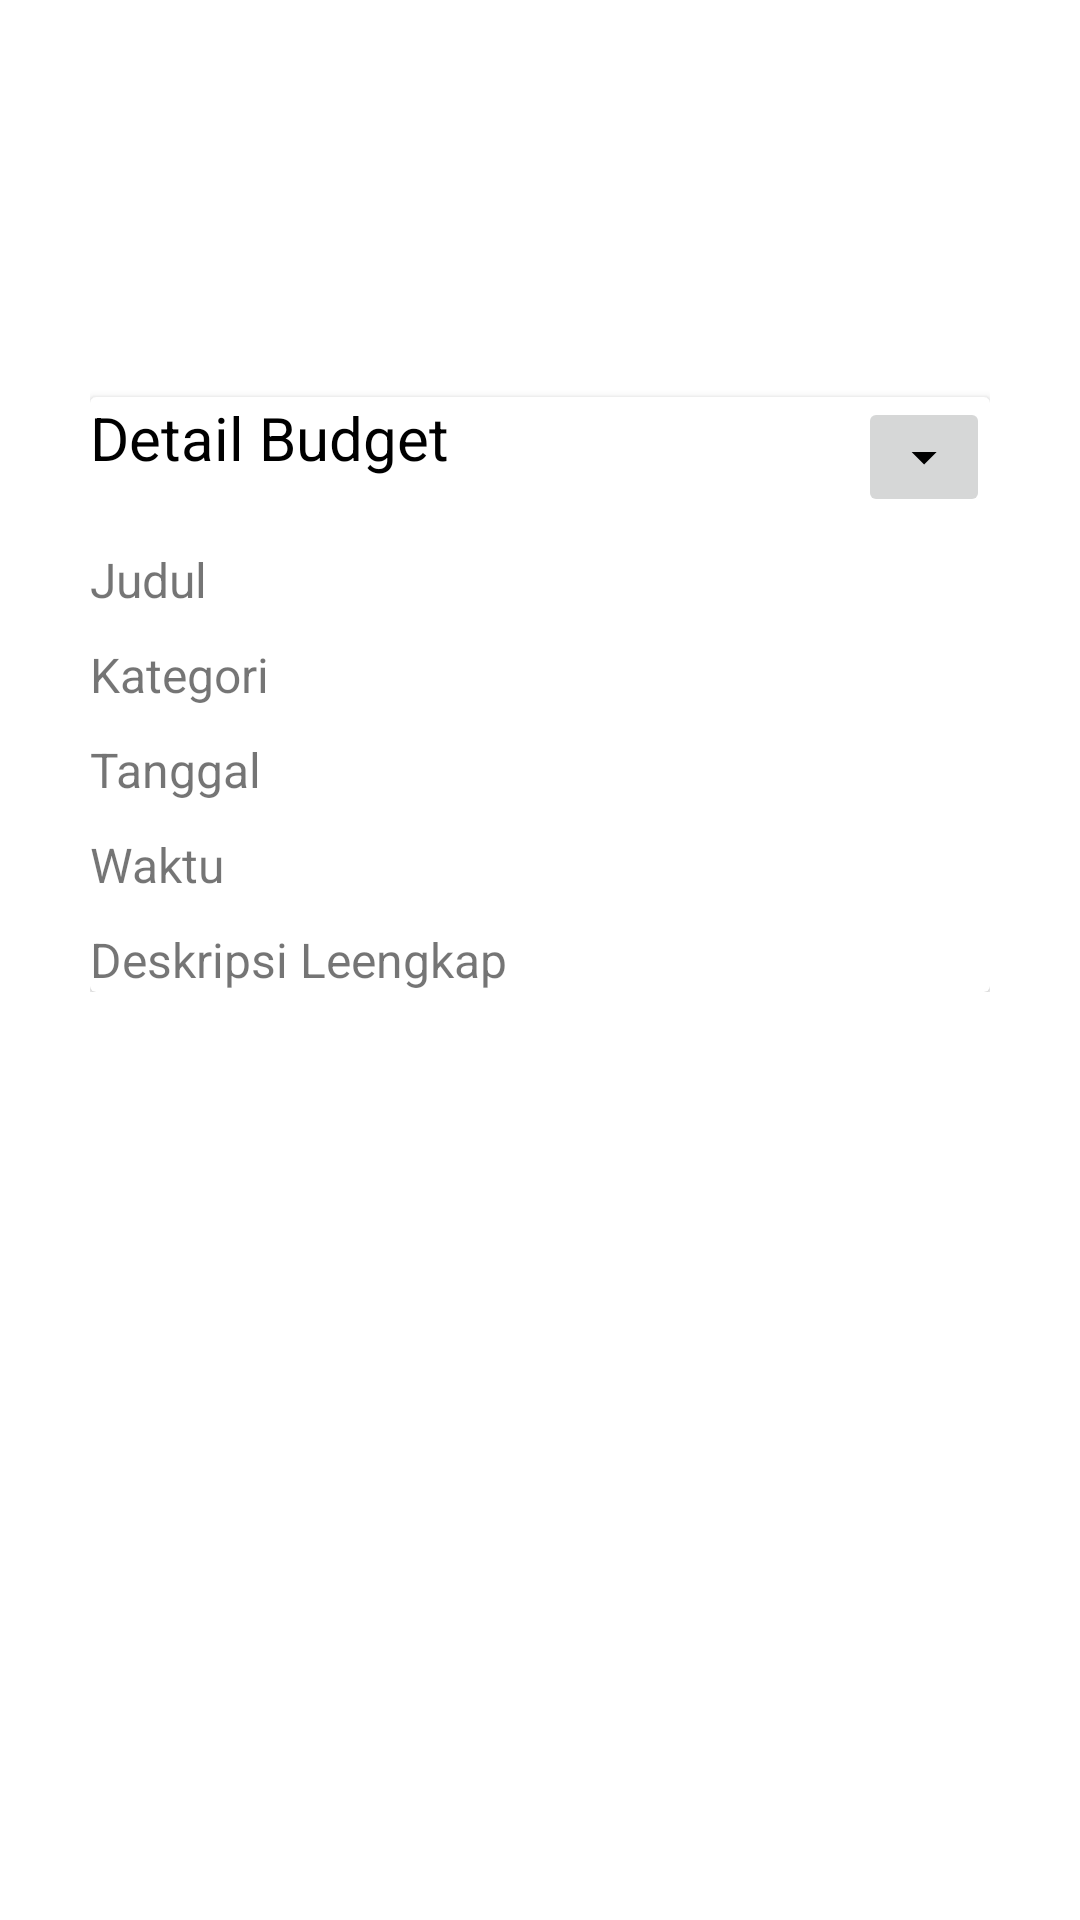

Screen size 1080px x 1920px. Icon name, then its center in pixels as (x,y):
arrow drop down: (924,457)
